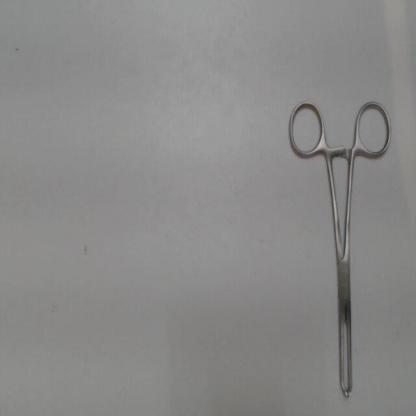Allis Tissue Forceps: (281, 94, 396, 411)
